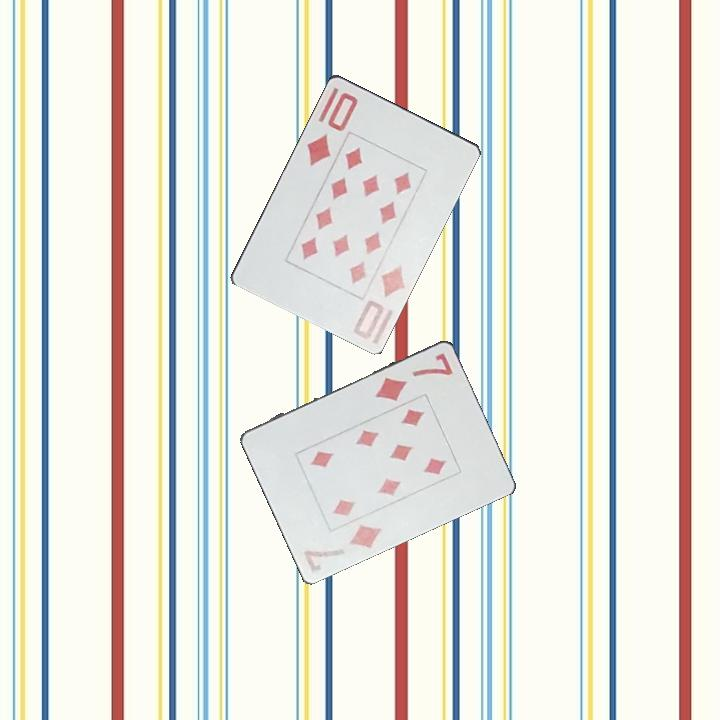7d: (300, 519, 385, 574), (372, 349, 456, 404)
Td: (349, 260, 407, 342), (303, 88, 361, 169)
